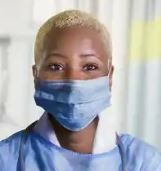with_facemask: (40, 75, 107, 125)
